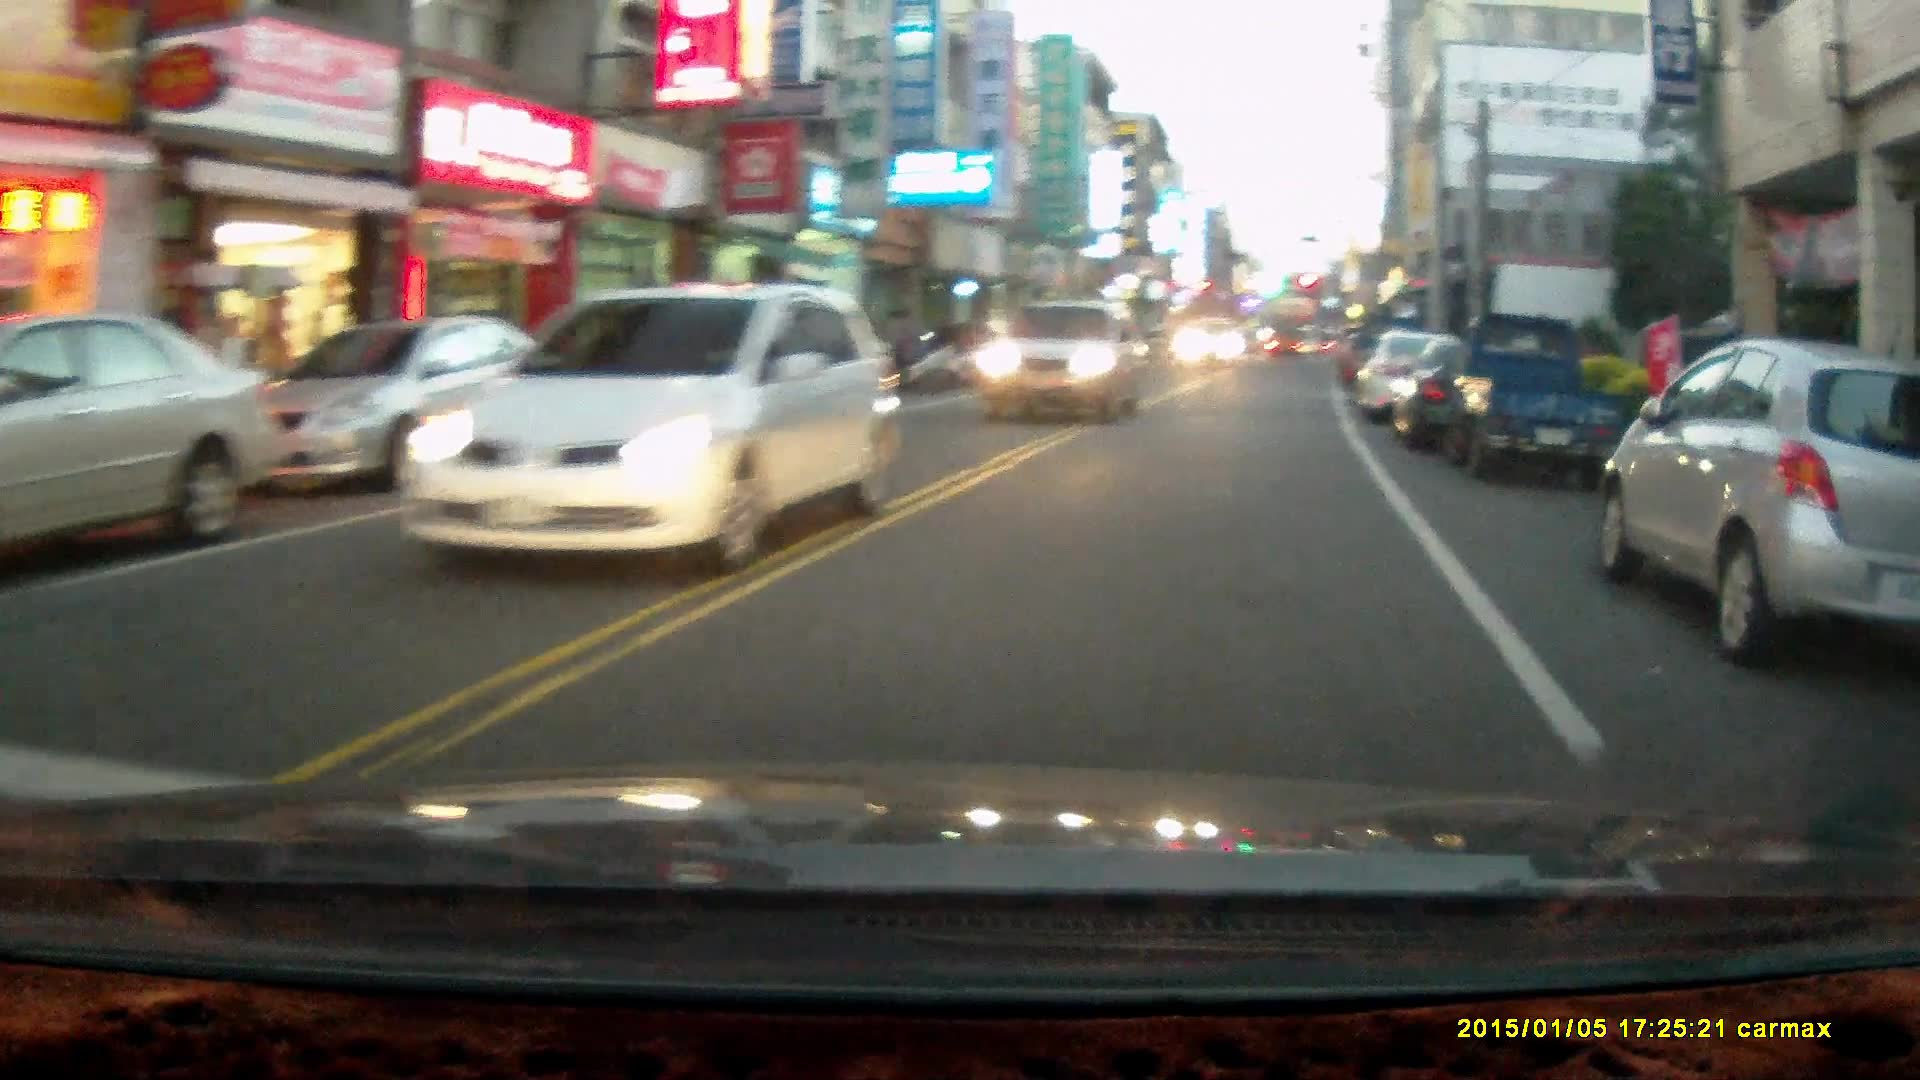vehicle: (394, 280, 899, 572), (1602, 334, 1920, 669), (1, 307, 286, 579), (228, 311, 560, 495), (1443, 309, 1635, 481), (973, 295, 1156, 422), (1353, 324, 1513, 426), (1178, 314, 1253, 368)
